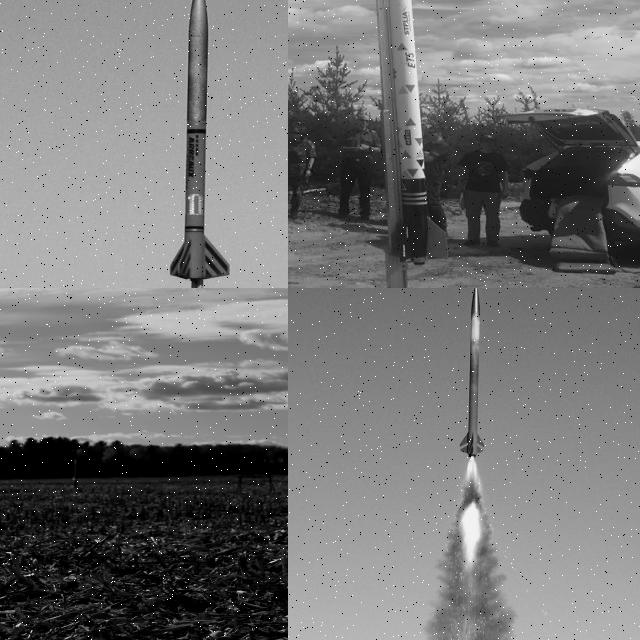Rocket: (167, 0, 231, 282), (385, 0, 448, 265), (458, 288, 484, 456), (72, 458, 78, 481)
